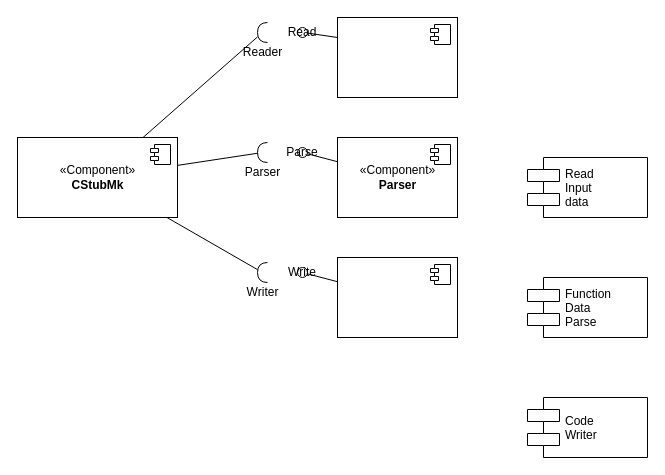
Image size: 665x475. Some labels were removed from this diagram. The box of each missing label's shape, as (x1, y1, x2, y2) in pixels:
«Component» Read: (336, 16, 458, 98)
«Component» Writer: (336, 256, 458, 338)
